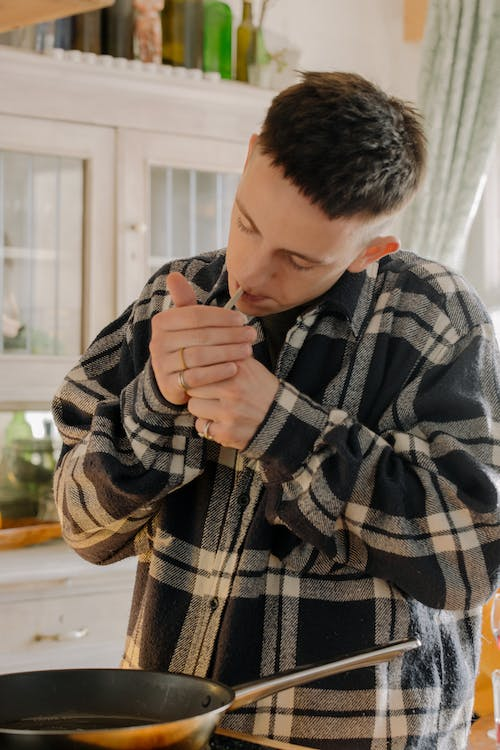cigarette: (222, 285, 247, 312)
